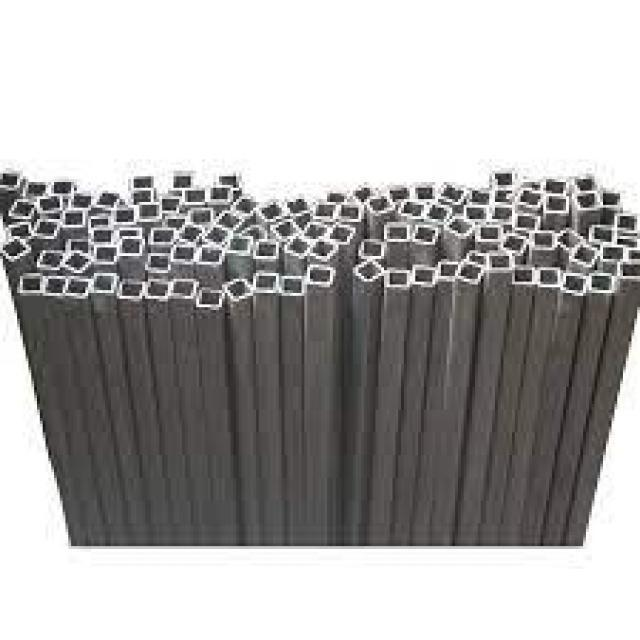pipe: (446, 216, 475, 237), (1, 240, 28, 262), (356, 262, 382, 281), (20, 273, 43, 294), (225, 279, 249, 299), (63, 251, 88, 270), (573, 245, 598, 264), (501, 235, 526, 254), (275, 221, 297, 242), (204, 227, 228, 246), (259, 202, 283, 221), (179, 225, 207, 241), (400, 201, 426, 218), (439, 186, 465, 203), (44, 277, 67, 296), (7, 223, 31, 241), (199, 289, 223, 307), (217, 212, 241, 230), (368, 195, 392, 213), (517, 189, 542, 206), (40, 251, 62, 270), (66, 278, 89, 296), (234, 198, 257, 216), (458, 263, 481, 281), (310, 241, 334, 258), (289, 236, 310, 255), (353, 184, 375, 202), (10, 201, 33, 218), (426, 206, 449, 223), (24, 181, 48, 197), (49, 180, 73, 196), (414, 225, 435, 243), (329, 226, 352, 242), (558, 231, 578, 249), (489, 253, 511, 269), (544, 179, 567, 194), (36, 220, 56, 237), (592, 274, 612, 291), (0, 173, 22, 188), (199, 248, 221, 263), (309, 267, 331, 282), (303, 224, 328, 237), (227, 238, 250, 252), (340, 204, 360, 220), (564, 276, 584, 292), (288, 198, 309, 213), (575, 178, 597, 192), (538, 269, 557, 285), (94, 247, 115, 261), (120, 284, 141, 298), (283, 278, 300, 295), (41, 197, 61, 211), (255, 276, 275, 290), (97, 193, 118, 206), (515, 215, 536, 228), (390, 271, 408, 286), (617, 215, 636, 229), (490, 208, 512, 220), (388, 225, 408, 238), (593, 227, 613, 240), (603, 246, 623, 259), (94, 277, 112, 291), (173, 247, 194, 259), (363, 242, 381, 256), (415, 269, 433, 283), (467, 251, 485, 265), (479, 227, 500, 239), (148, 284, 167, 297), (256, 243, 275, 256), (390, 188, 409, 201), (494, 172, 513, 185), (578, 194, 595, 208), (186, 189, 204, 202), (316, 204, 334, 217), (152, 231, 173, 242), (173, 281, 192, 293), (621, 264, 640, 276), (603, 192, 619, 206), (65, 211, 82, 224), (122, 239, 139, 252), (534, 234, 551, 247), (470, 192, 490, 203), (116, 210, 134, 222), (140, 205, 158, 217), (149, 256, 167, 268), (173, 175, 191, 187), (547, 197, 565, 209), (415, 187, 433, 199), (68, 241, 87, 252), (438, 265, 457, 276), (466, 207, 485, 218), (246, 228, 262, 241), (328, 192, 345, 204), (72, 196, 90, 207), (133, 176, 151, 187), (516, 270, 532, 282), (190, 210, 209, 220), (210, 189, 229, 199), (94, 230, 111, 241), (132, 191, 150, 201), (219, 175, 237, 185), (165, 217, 183, 226), (163, 199, 179, 209), (617, 238, 637, 246), (628, 250, 640, 262), (118, 230, 138, 237), (91, 218, 108, 226), (496, 191, 509, 201)
